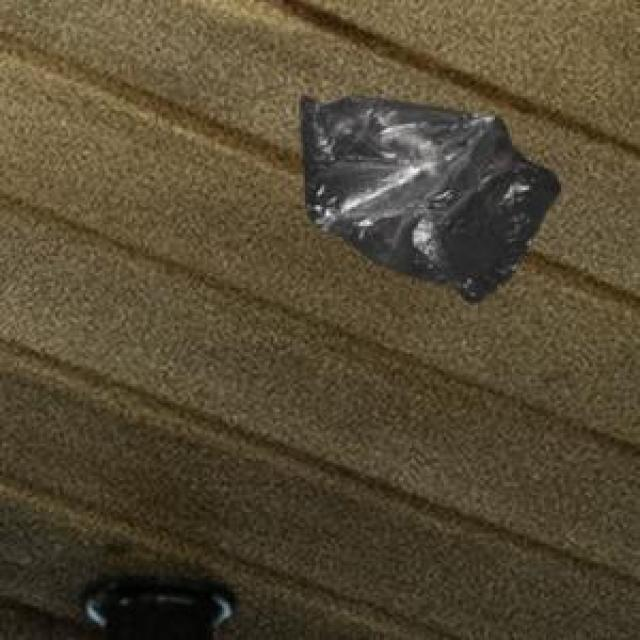Vinyl: (309, 91, 562, 292)
